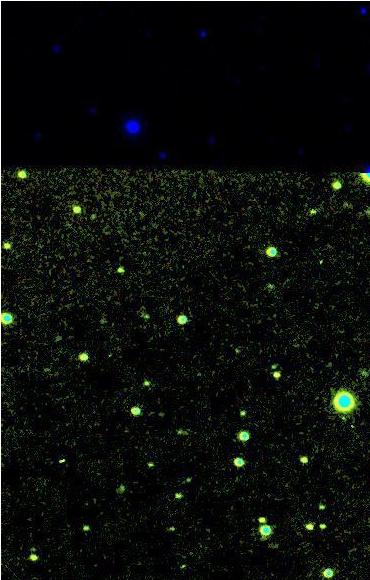star: (162, 550, 192, 580)
